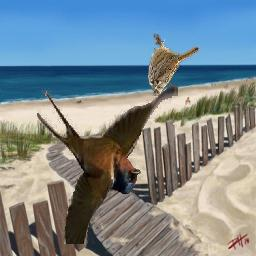Sparrow: (147, 34, 199, 97)
Swallow: (37, 78, 181, 245)
